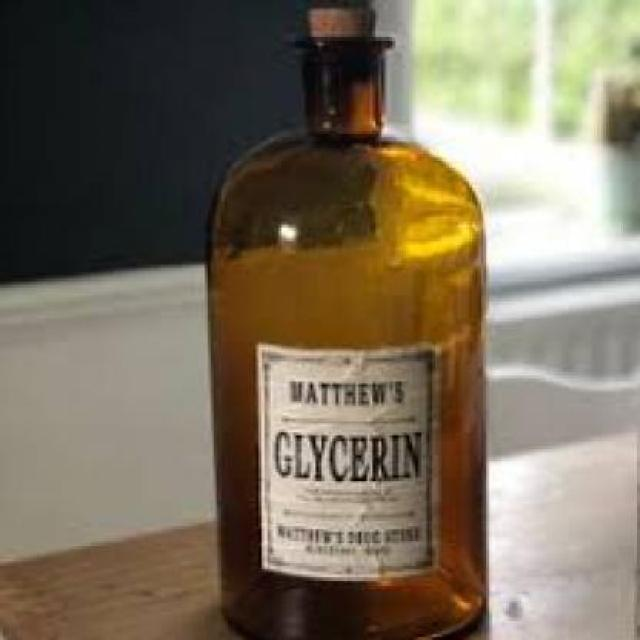kaca: (203, 31, 485, 637)
